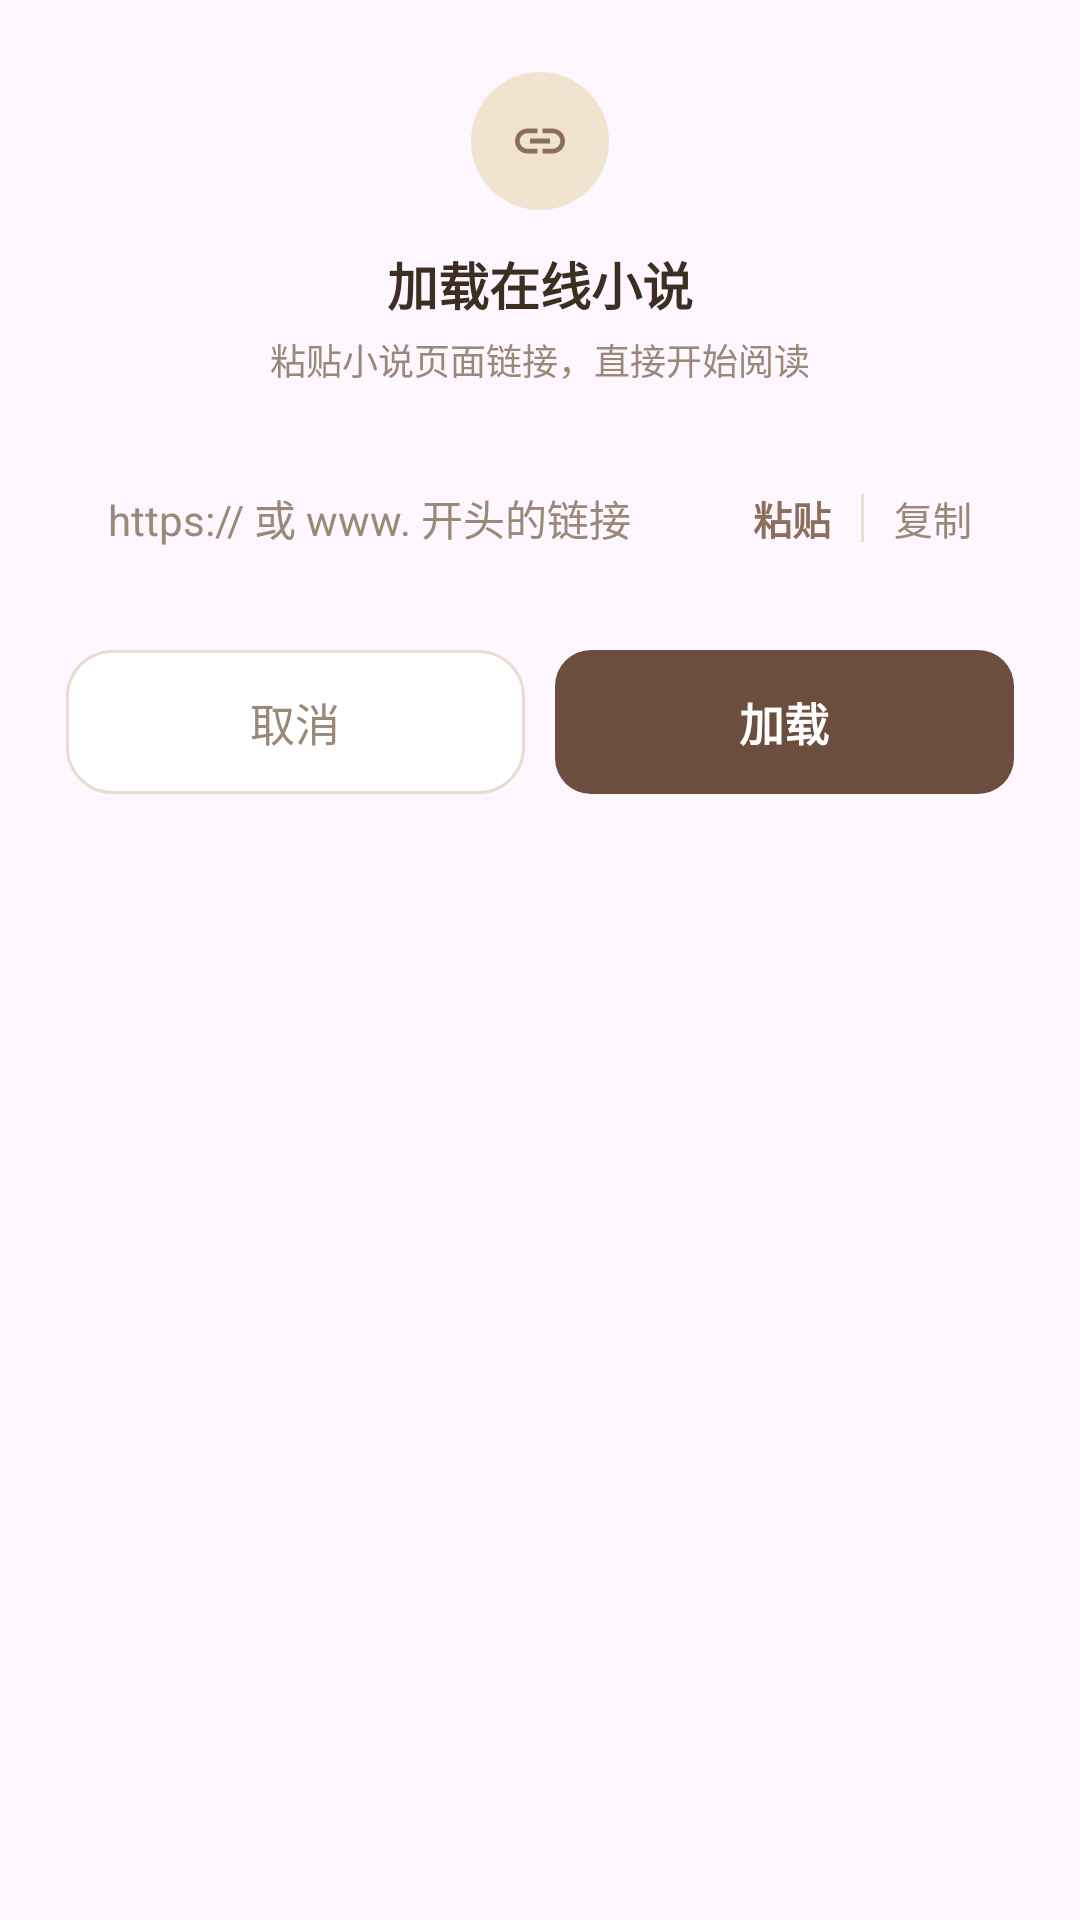

Named icons in this screenshot (1080 x 1920) and their bounding boxes, (x1, y1, x2, y2):
url: (515, 128, 565, 154)
